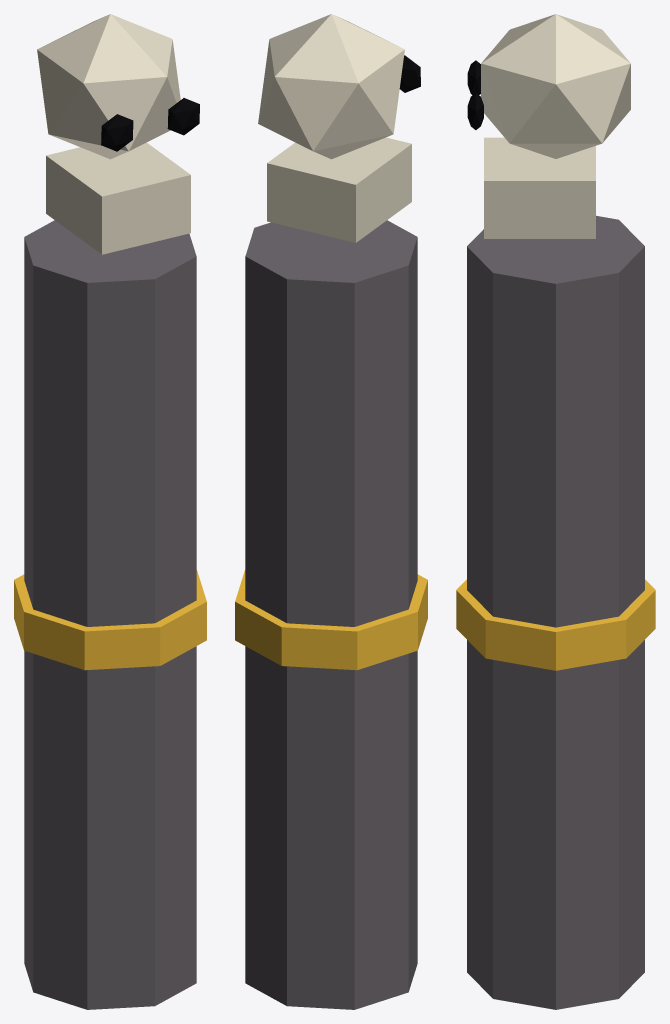
Rendered from Prop_OR_SkullTotem_03.glb.
3 renders of one model, left to right at view 1: azimuth 30°, elevation 25°; view 2: azimuth 150°, elevation 25°; view 3: azimuth 270°, elevation 25°, orthographic.
Parts seen in each view (by area): view 1: Prop_OR_SkullTotem_03; view 2: Prop_OR_SkullTotem_03; view 3: Prop_OR_SkullTotem_03.
Part boxes in pixels (x1=…): Prop_OR_SkullTotem_03: x1=14, y1=14, x2=206, y2=1009; Prop_OR_SkullTotem_03: x1=235, y1=14, x2=427, y2=1009; Prop_OR_SkullTotem_03: x1=456, y1=14, x2=655, y2=1009.
Size of the model in its own units: 0.56 by 2.97 by 0.56.
